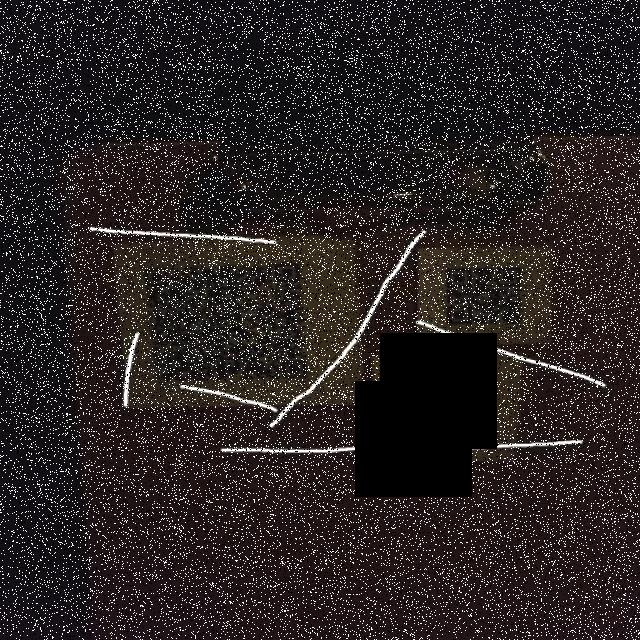QR_CODE: (132, 250, 318, 386), (390, 364, 500, 448), (432, 255, 530, 334)
